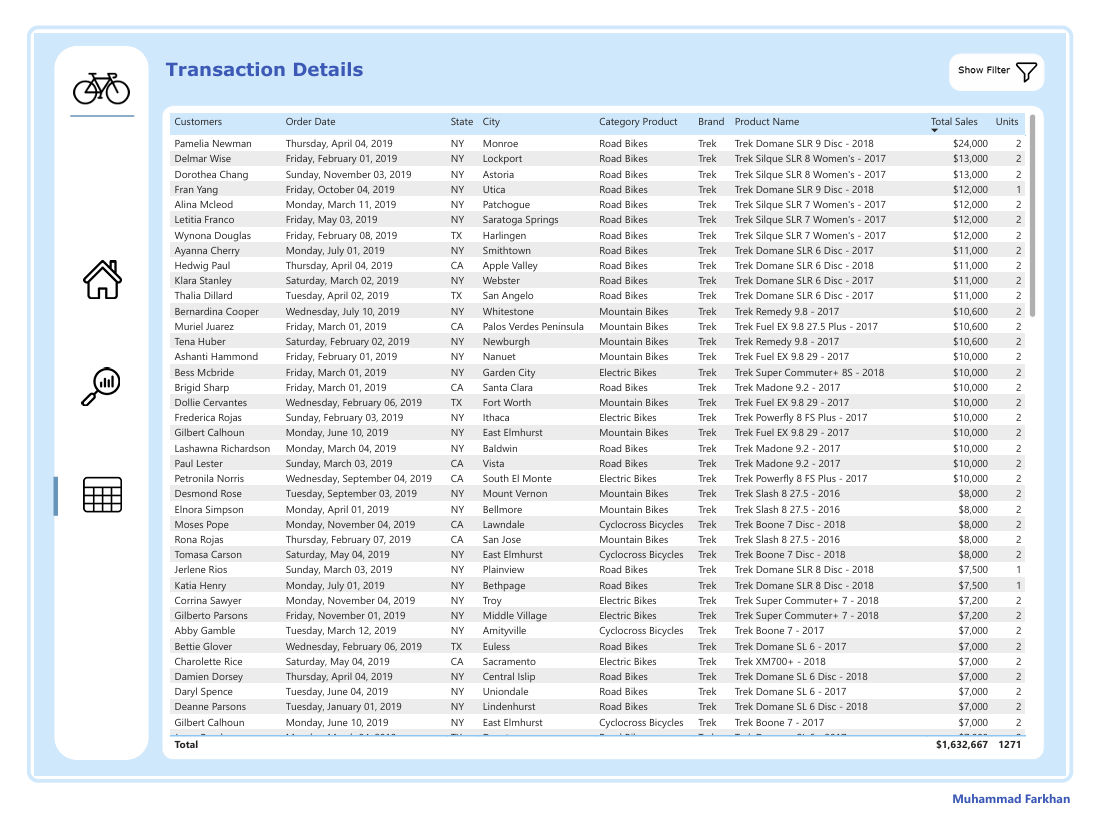

The dashboard page shown, as its layout file describes it:
{"tool":"powerbi","page":{"name":"Details","canvas":[1400,1090],"ordinal":2},"visuals":[{"type":"shape","box":[1116,1016,270,62],"z":0},{"type":"shape","box":[12.3,12.3,1374.9,994.3],"z":1000},{"type":"shape","box":[47.6,38.6,124.5,938.2],"z":2000},{"type":"textbox","box":[189.4,49.1,326.2,70.1],"z":3000},{"type":"image","box":[74.4,320.9,73.7,50.9],"z":4000},{"type":"shape","box":[17.5,605,64.9,50.9],"z":5000},{"type":"image","box":[72.6,462.1,73.7,50.9],"z":6000},{"type":"image","box":[74.4,603.3,73.7,50.9],"z":7000},{"type":"image","box":[67.3,57.9,84.2,73.7],"z":8000},{"type":"shape","box":[69.1,87.7,84.2,85.9],"z":9000},{"type":"image","box":[1224,49.1,124.5,49.1],"z":10000},{"type":"tableEx","fields":{"Values":["bike_sales bike_sales_clean.customers","bike_sales bike_sales_clean.order_date","bike_sales bike_sales_clean.state","bike_sales bike_sales_clean.city","bike_sales bike_sales_clean.category_name","bike_sales bike_sales_clean.brand_name","bike_sales bike_sales_clean.product_name","_Measures .TotalRevenue","Sum(bike_sales bike_sales_clean.total_units)"]},"box":[189.4,117.5,1159.2,859.3],"z":11000},{"type":"textbox","box":[1100,1030,268,32],"z":14000},{"type":"image","box":[1116,1014,78,62],"z":15000}]}

Visuals, with their boxes on the page's 1400x1090 design canvas (x1, y1, x2, y2). These are canvas units, not pixel positions in the 1101x830 screenshot, which may show the page scaled, cropped or inside an application window:
shape: {"left": 1116, "top": 1016, "right": 1386, "bottom": 1078}
shape: {"left": 12, "top": 12, "right": 1387, "bottom": 1007}
shape: {"left": 48, "top": 39, "right": 172, "bottom": 977}
textbox: {"left": 189, "top": 49, "right": 516, "bottom": 119}
image: {"left": 74, "top": 321, "right": 148, "bottom": 372}
shape: {"left": 18, "top": 605, "right": 82, "bottom": 656}
image: {"left": 73, "top": 462, "right": 146, "bottom": 513}
image: {"left": 74, "top": 603, "right": 148, "bottom": 654}
image: {"left": 67, "top": 58, "right": 152, "bottom": 132}
shape: {"left": 69, "top": 88, "right": 153, "bottom": 174}
image: {"left": 1224, "top": 49, "right": 1348, "bottom": 98}
tableEx - bike_sales bike_sales_clean.customers x bike_sales bike_sales_clean.order_date: {"left": 189, "top": 118, "right": 1349, "bottom": 977}
textbox: {"left": 1100, "top": 1030, "right": 1368, "bottom": 1062}
image: {"left": 1116, "top": 1014, "right": 1194, "bottom": 1076}
